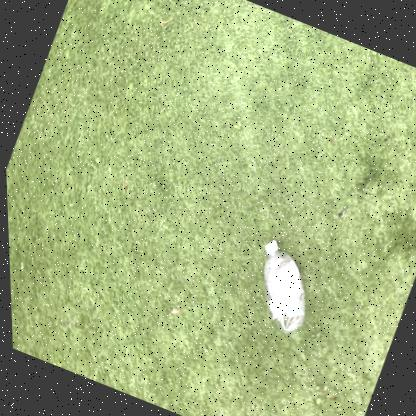Plastic: (261, 241, 303, 333)
